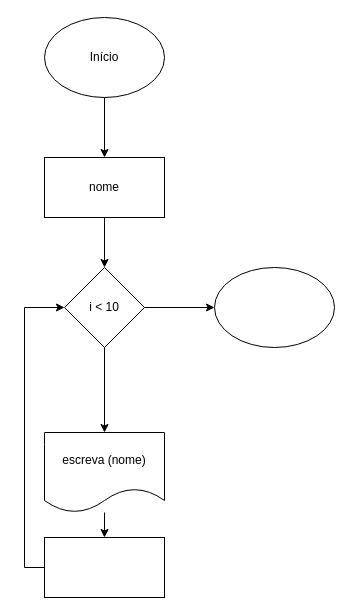
Some shapes in this 352 by 615 pixel diagram are drawn without their labels. Here are the shapes that lost their labels. From the top down, the box of each, then its label:
(214, 266, 334, 348): Fim
(44, 536, 164, 598): i ++
